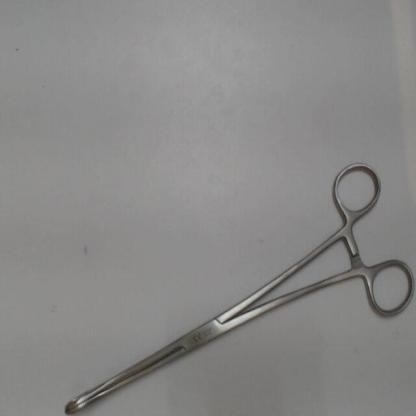Sponge Forceps: (54, 152, 414, 416)
